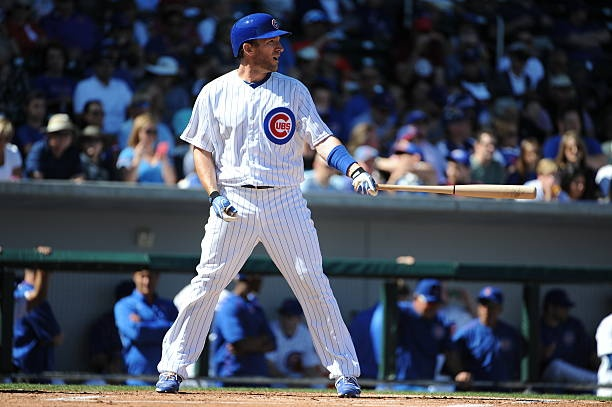bita: (367, 178, 540, 203)
